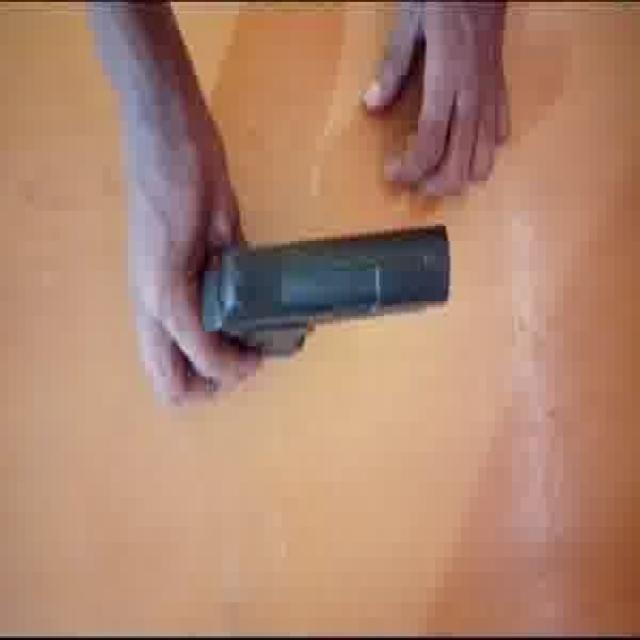weapon: (196, 210, 452, 362)
